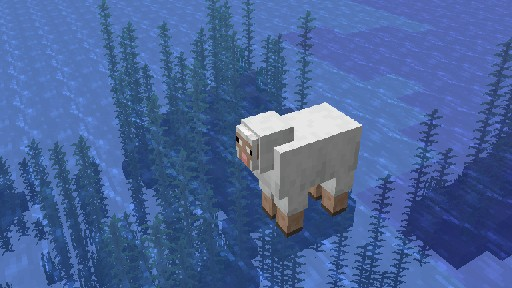sheep: (235, 101, 362, 237)
